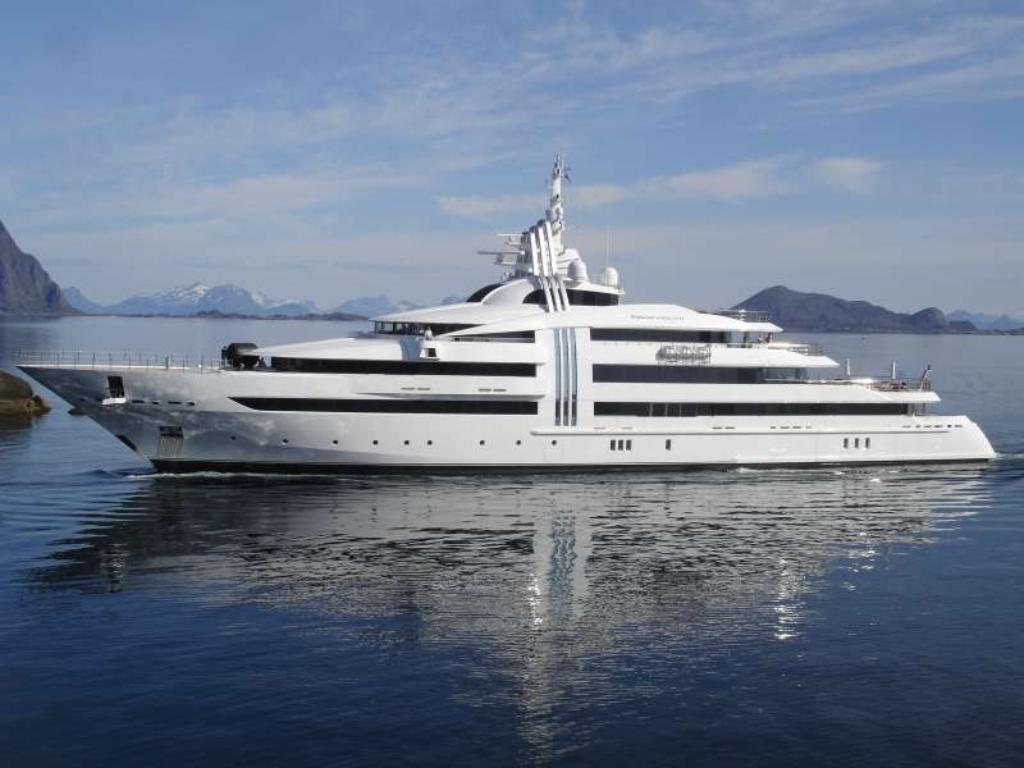PassengerShip: (3, 143, 1009, 477)
